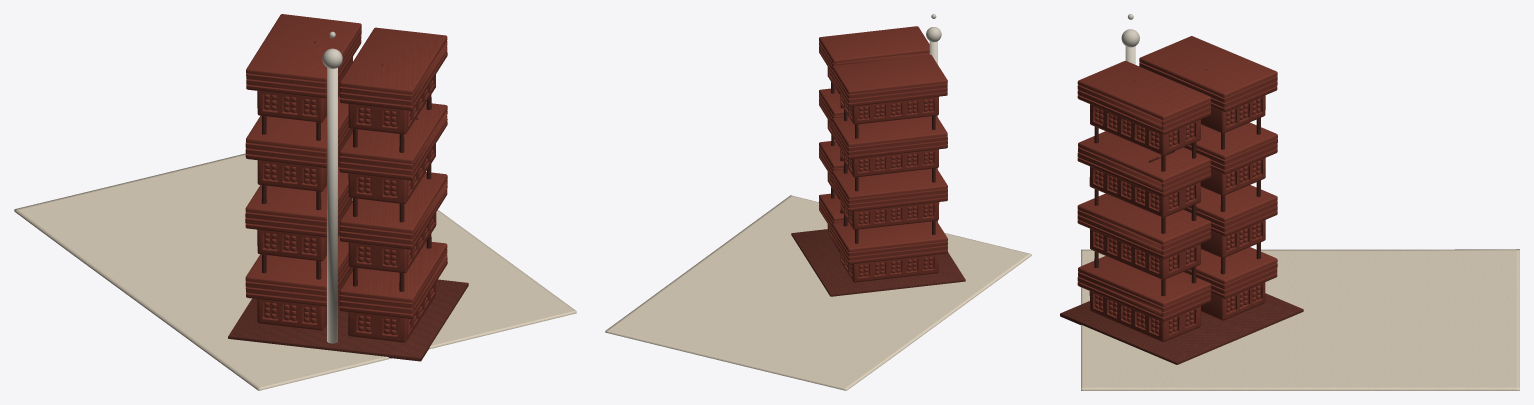
File: layers-baked.glb
The picture shows the model from 3 angles, left to right: view 1: azimuth 30°, elevation 25°; view 2: azimuth 150°, elevation 25°; view 3: azimuth 270°, elevation 25°; orthographic projection. The views are drawn at different scales.
Parts seen in each view (by area): view 1: ground_layers, LAYERS_lid_3L, LAYERS_lid_3R, LAYERS_baseplate, LAYERS_lid_2R, LAYERS_lid_0R, LAYERS_lid_1R, LAYERS_lid_1L, LAYERS_lid_0L, LAYERS_lid_2L, LAYERS_spine, LAYERS_box_1R (+11 smaller); view 2: ground_layers, LAYERS_lid_3L, LAYERS_baseplate, LAYERS_lid_2L, LAYERS_lid_1L, LAYERS_lid_0L, LAYERS_lid_3R, LAYERS_box_0L, LAYERS_box_2L, LAYERS_box_1L, LAYERS_box_3L, LAYERS_lid_2R (+6 smaller); view 3: ground_layers, LAYERS_lid_3R, LAYERS_lid_3L, LAYERS_baseplate, LAYERS_lid_1R, LAYERS_lid_0R, LAYERS_lid_2R, LAYERS_lid_2L, LAYERS_lid_1L, LAYERS_lid_0L, LAYERS_box_2R, LAYERS_box_0R (+10 smaller).
Part boxes in pixels (x1=…): ground_layers: x1=14, y1=153, x2=576, y2=390; LAYERS_lid_3L: x1=246, y1=14, x2=361, y2=98; LAYERS_lid_3R: x1=339, y1=27, x2=447, y2=110; LAYERS_baseplate: x1=228, y1=279, x2=468, y2=361; LAYERS_lid_2R: x1=339, y1=102, x2=447, y2=180; LAYERS_lid_0R: x1=339, y1=241, x2=447, y2=318; LAYERS_lid_1R: x1=340, y1=172, x2=447, y2=249; LAYERS_lid_1L: x1=245, y1=165, x2=350, y2=237; LAYERS_lid_0L: x1=245, y1=235, x2=350, y2=306; LAYERS_lid_2L: x1=245, y1=95, x2=350, y2=167; LAYERS_spine: x1=327, y1=67, x2=337, y2=343; LAYERS_box_1R: x1=348, y1=212, x2=436, y2=273; ground_layers: x1=605, y1=195, x2=1031, y2=390; LAYERS_lid_3L: x1=832, y1=54, x2=947, y2=106; LAYERS_baseplate: x1=791, y1=229, x2=965, y2=296; LAYERS_lid_2L: x1=832, y1=115, x2=947, y2=159; LAYERS_lid_1L: x1=832, y1=168, x2=947, y2=211; LAYERS_lid_0L: x1=832, y1=221, x2=947, y2=264; LAYERS_lid_3R: x1=819, y1=26, x2=929, y2=73; LAYERS_box_0L: x1=840, y1=252, x2=938, y2=282; LAYERS_box_2L: x1=840, y1=147, x2=938, y2=177; LAYERS_box_1L: x1=840, y1=200, x2=939, y2=229; LAYERS_box_3L: x1=840, y1=94, x2=938, y2=124; LAYERS_lid_2R: x1=819, y1=88, x2=847, y2=125; ground_layers: x1=1081, y1=249, x2=1519, y2=390; LAYERS_lid_3R: x1=1077, y1=61, x2=1211, y2=134; LAYERS_lid_3L: x1=1139, y1=36, x2=1277, y2=112; LAYERS_baseplate: x1=1060, y1=293, x2=1303, y2=364; LAYERS_lid_1R: x1=1077, y1=193, x2=1211, y2=259; LAYERS_lid_0R: x1=1077, y1=256, x2=1211, y2=321; LAYERS_lid_2R: x1=1077, y1=131, x2=1211, y2=196; LAYERS_lid_2L: x1=1184, y1=122, x2=1277, y2=174; LAYERS_lid_1L: x1=1183, y1=185, x2=1277, y2=236; LAYERS_lid_0L: x1=1184, y1=247, x2=1277, y2=298; LAYERS_box_2R: x1=1089, y1=166, x2=1200, y2=217; LAYERS_box_0R: x1=1089, y1=291, x2=1200, y2=341.
Size of the model in its own units: 18 by 16.98 by 25.1.
6 materials, 6 textured.
